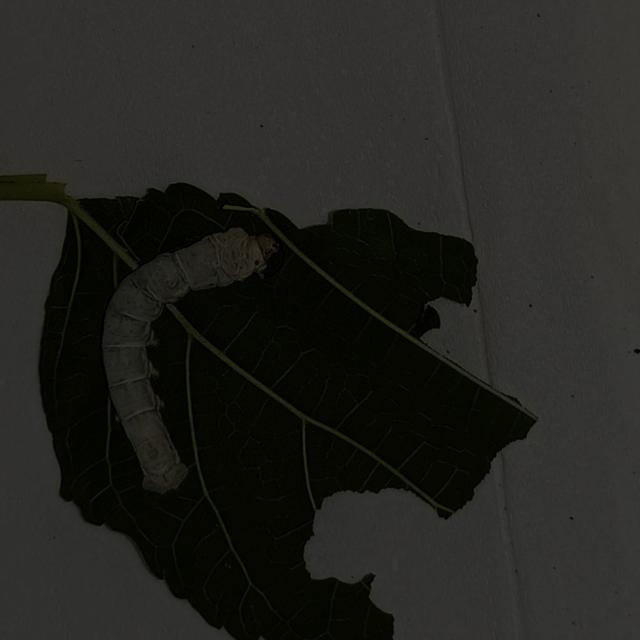Healthy: (92, 212, 280, 503)
